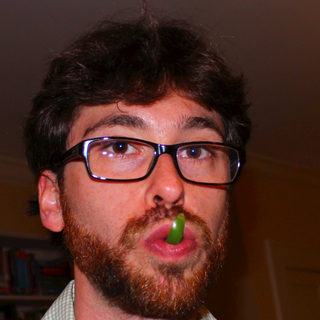eye: (101, 136, 142, 160), (180, 140, 219, 163)
